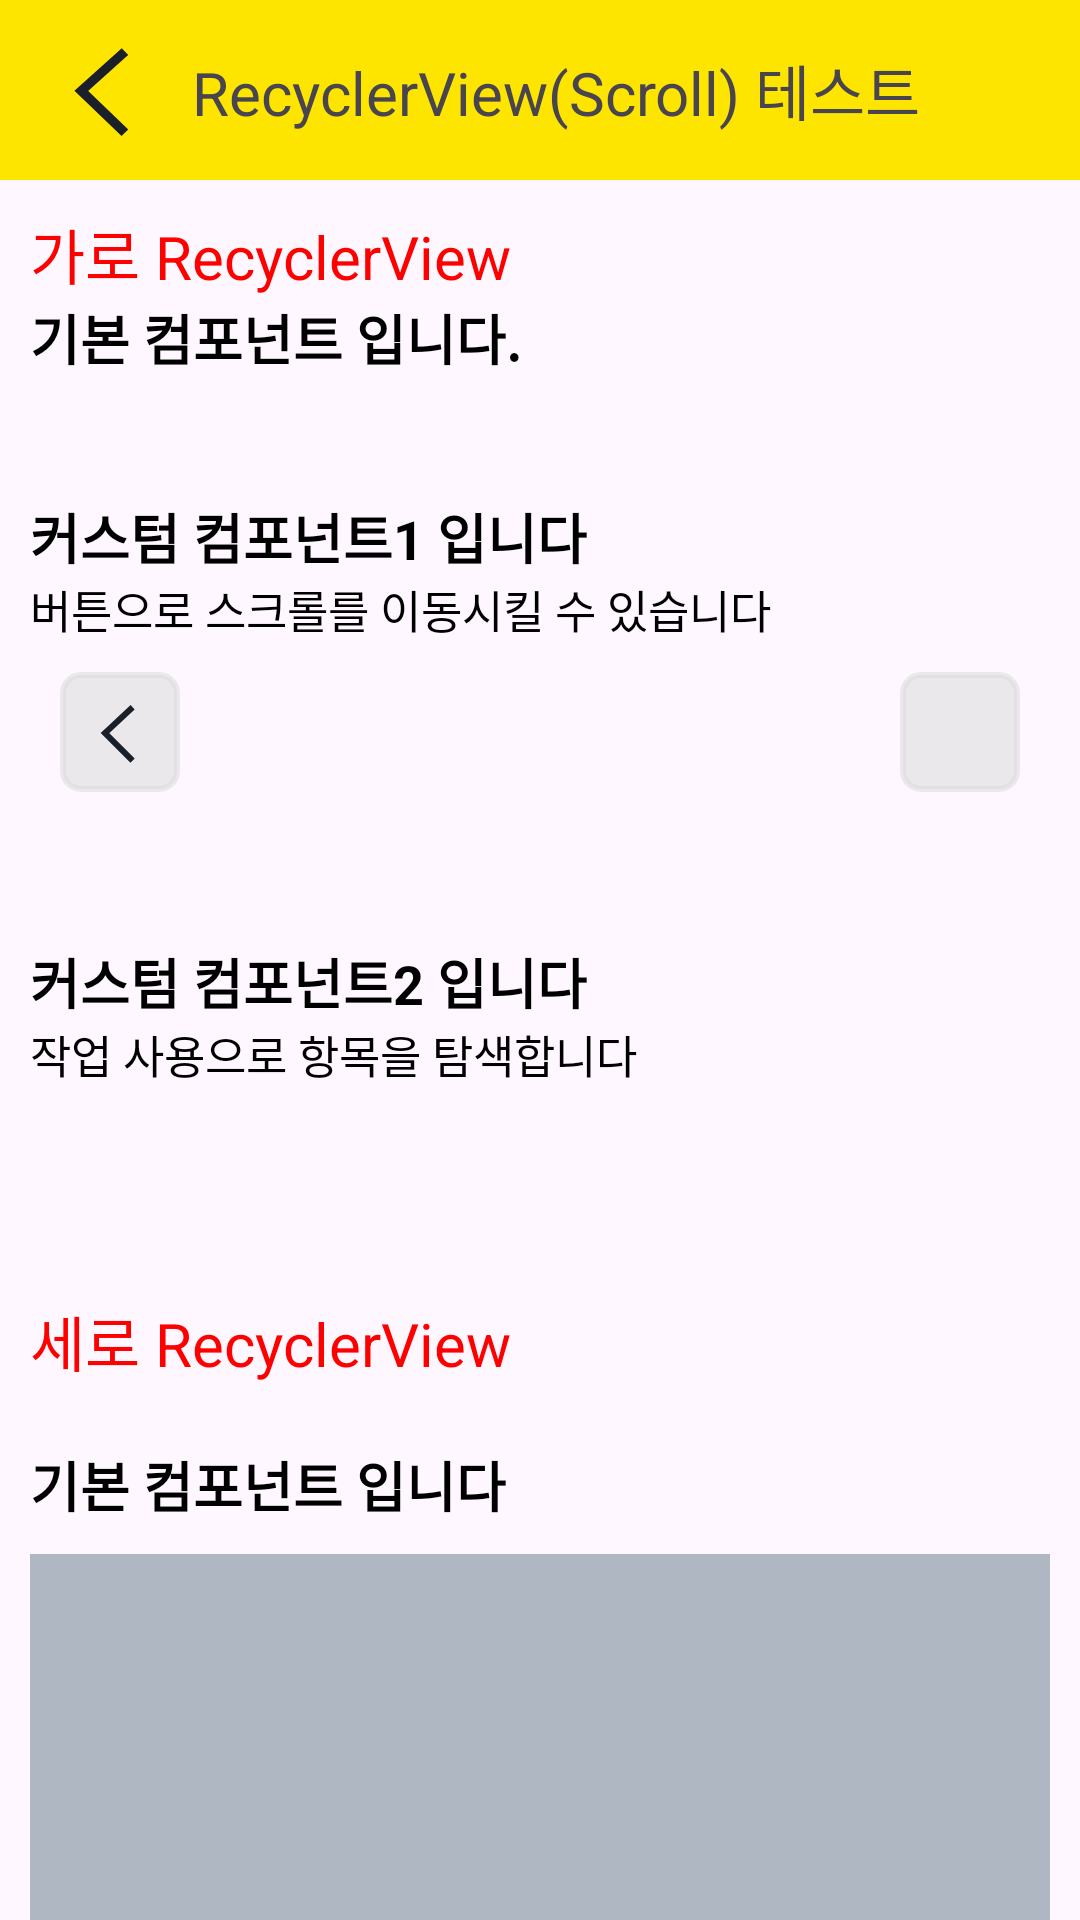

Icons on this 1080x1920 Android screen, each with its box as {"x1": x1, "y1": y1, "x2": x2, "y2": y2}:
뒤로가기: {"x1": 74, "y1": 48, "x2": 128, "y2": 136}
스크롤 왼쪽 이동: {"x1": 60, "y1": 672, "x2": 180, "y2": 792}
